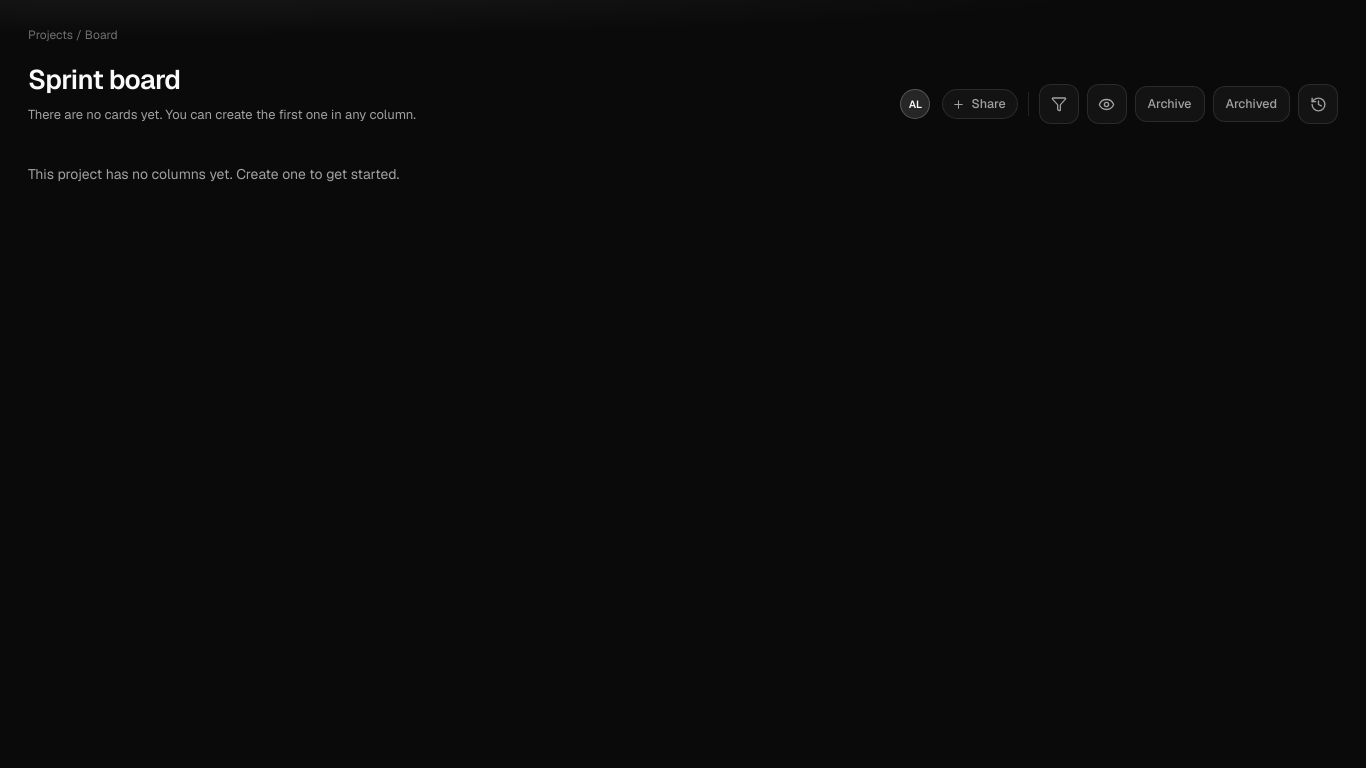
Test case: Project detail page › renders the board header and can open Share when the project has no columns
Expected: the heading "Sprint board" is shown, 28,62 -> 180,97
Expected: the text "This project has no columns yet. Create one to get started." is shown, 28,165 -> 399,183
Step 1. Click the button "Share" → click(980, 104), box 942,89 -> 1018,119
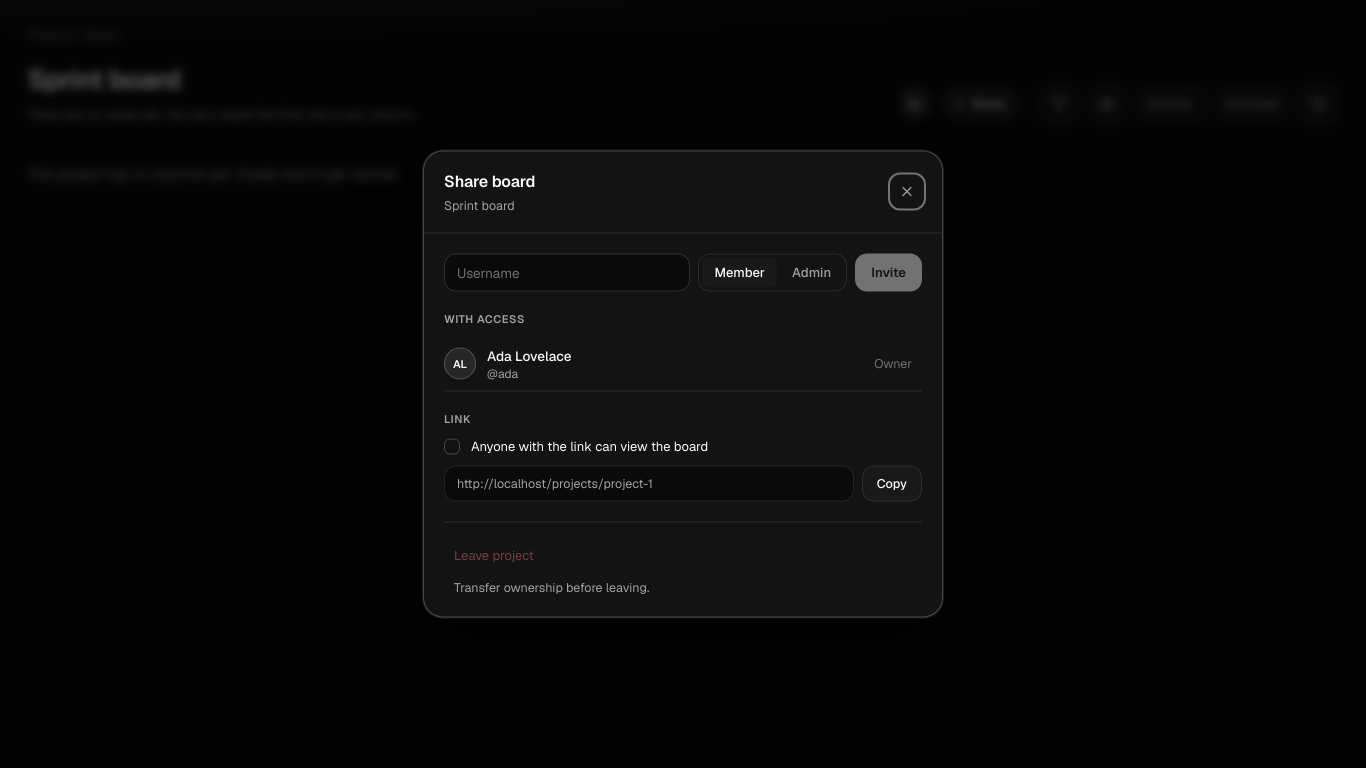
Expected: the heading "Share board" is shown, 444,170 -> 535,194
